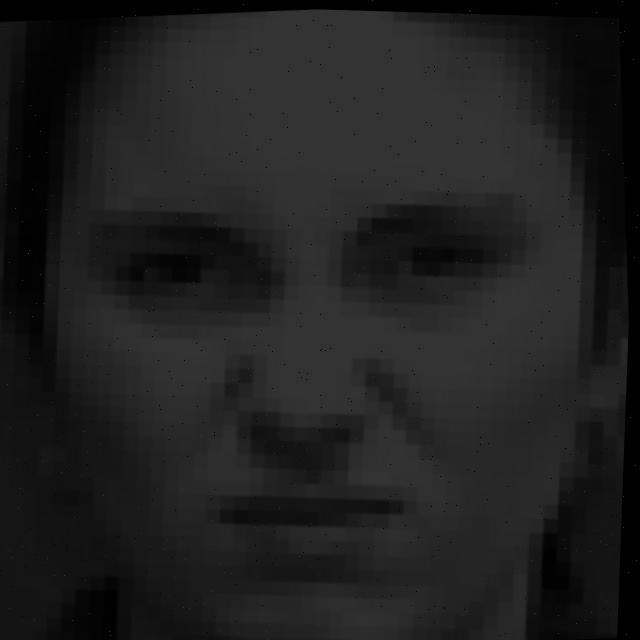Disgust: (35, 110, 566, 640)
